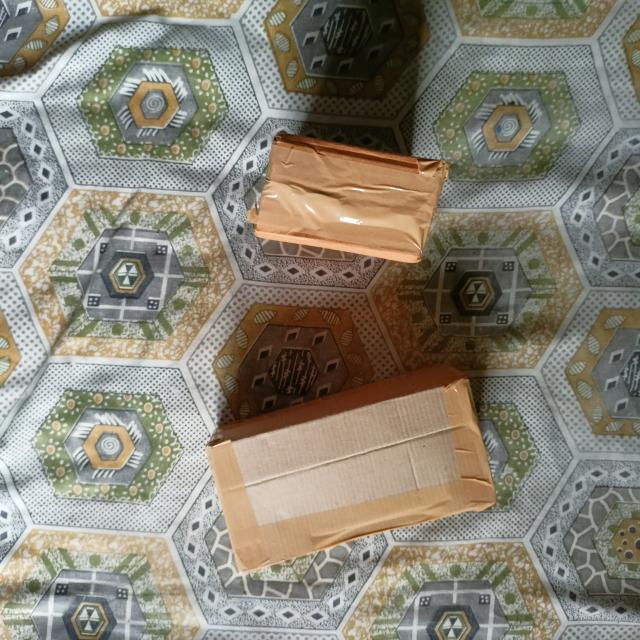box: (209, 382, 497, 575), (257, 140, 447, 262)
